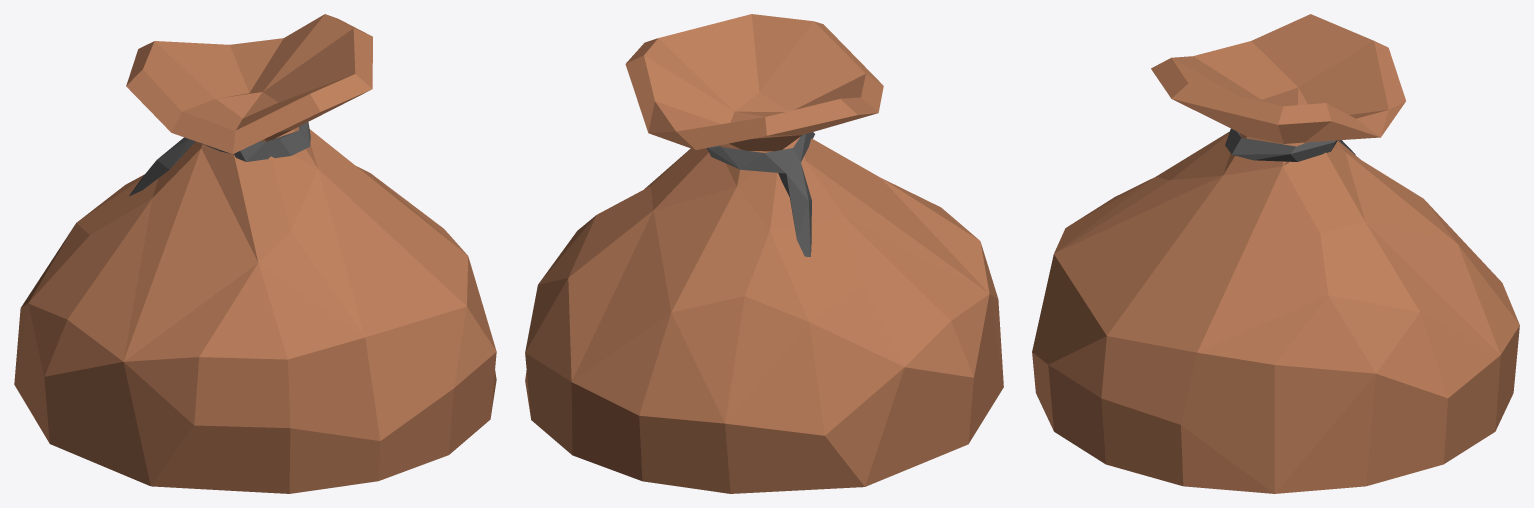
Rendered from LootBag.fbx.
The picture shows the model from 3 angles, left to right: view 1: azimuth 30°, elevation 25°; view 2: azimuth 150°, elevation 25°; view 3: azimuth 270°, elevation 25°; orthographic projection.
Visible parts, largest first — view 1: LootBag; view 2: LootBag; view 3: LootBag.
Boxes of the visible parts, x1,y1,x2,y2 form: LootBag: [14, 14, 496, 493]; LootBag: [525, 14, 1003, 493]; LootBag: [1032, 14, 1519, 493].
Size of the model in its own units: 46.75 by 46.98 by 38.9.
